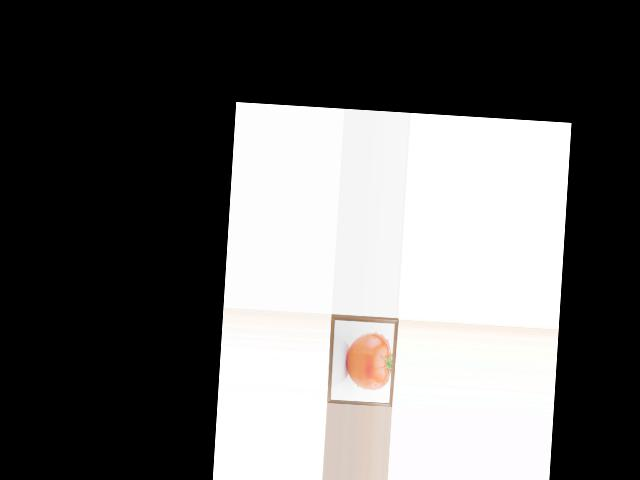tomato: (344, 331, 393, 390)
